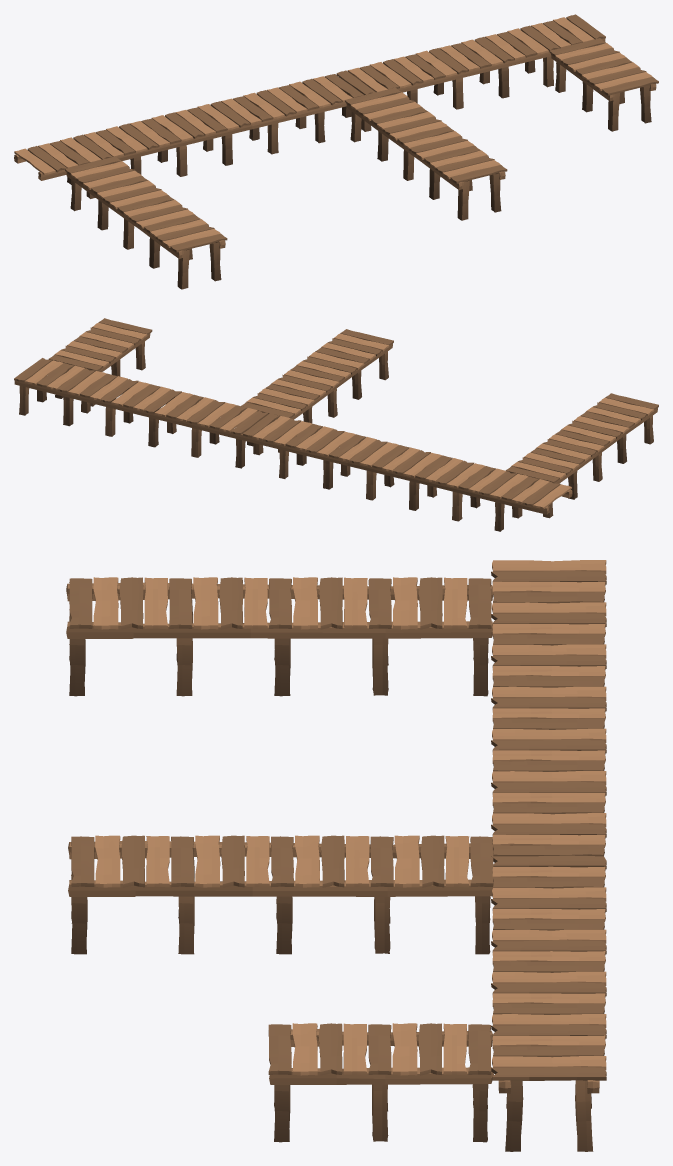
The model's file is wooden-pier-3.glb.
3 renders of one model, top to bottom at view 1: azimuth 30°, elevation 25°; view 2: azimuth 150°, elevation 25°; view 3: azimuth 270°, elevation 25°, orthographic. The views are drawn at different scales.
Visible parts, largest first — view 1: wooden pier 3; view 2: wooden pier 3; view 3: wooden pier 3.
Part boxes in pixels (left/top/right/bottom): wooden pier 3: left=14, top=14, right=658, bottom=289; wooden pier 3: left=14, top=318, right=658, bottom=531; wooden pier 3: left=66, top=560, right=606, bottom=1151.
Bounding box in the file's own units: 36.06 × 2.47 × 15.81.
Materials: 1 (1 with a texture image).
